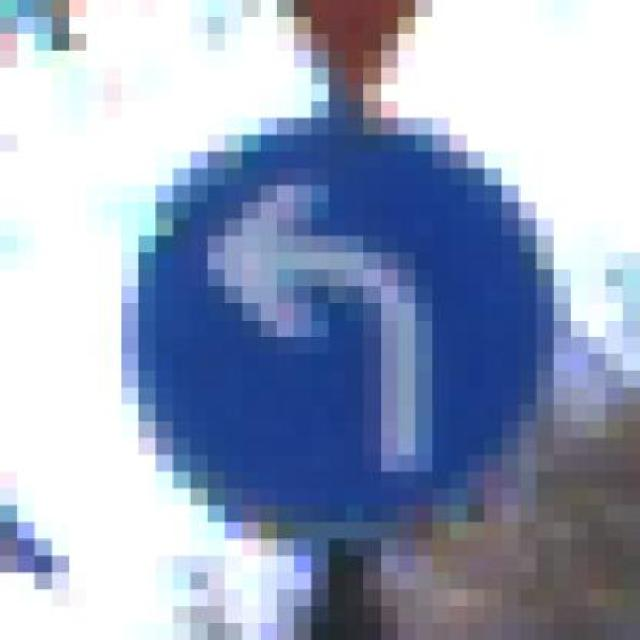Turn left ahead: (122, 118, 572, 556)
